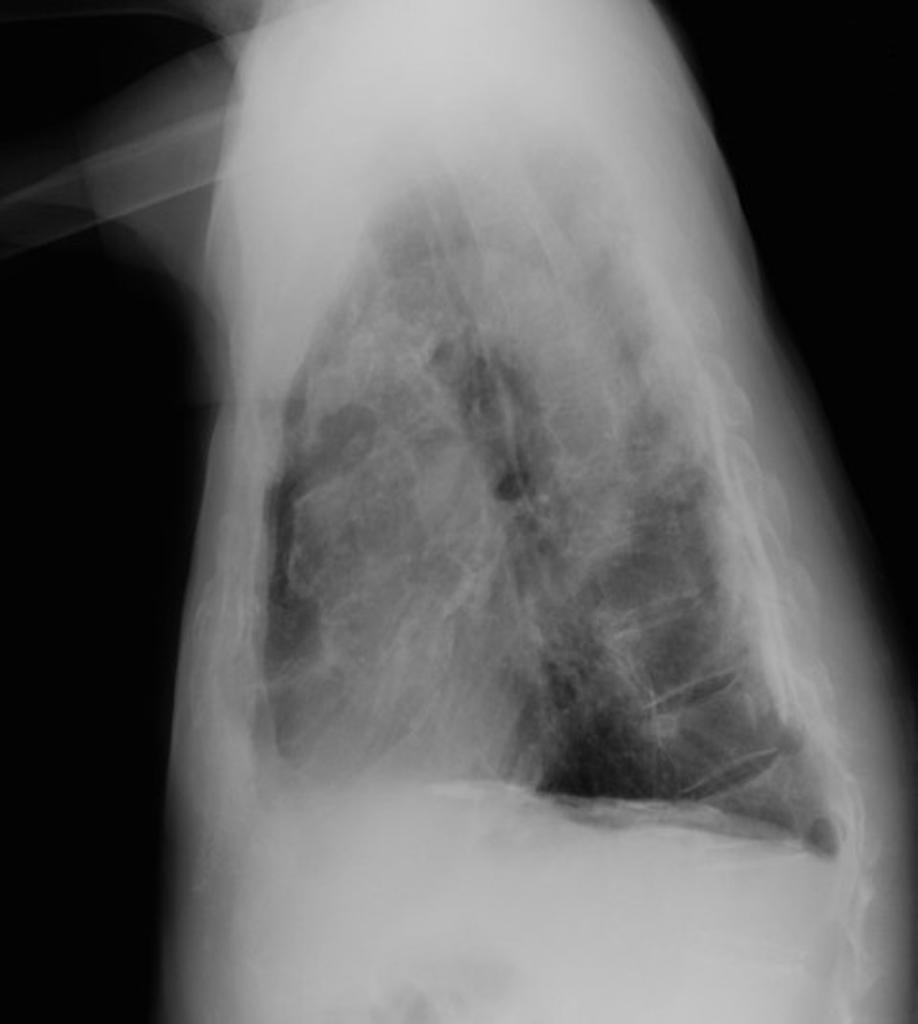cancer: (326, 239, 779, 795)
